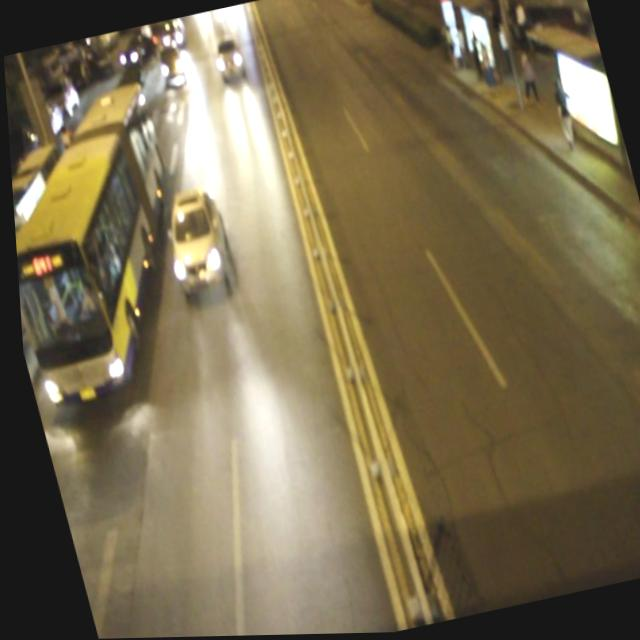car: (154, 189, 236, 295), (209, 36, 247, 83), (157, 18, 189, 52)
truck: (153, 38, 186, 83)
van: (5, 84, 208, 400)
